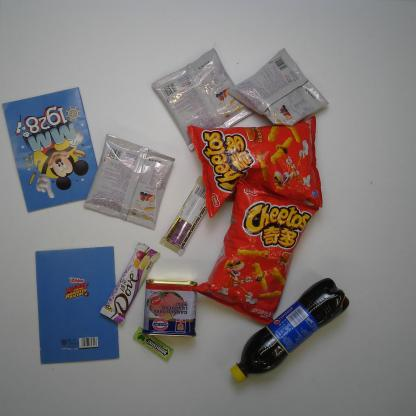Canned Food: (141, 277, 200, 339)
Chocolate: (100, 240, 160, 324), (160, 176, 209, 257)
Drink: (229, 278, 350, 383)
Gum: (133, 326, 173, 360)
Instant Drink: (151, 48, 255, 152), (82, 131, 176, 231), (227, 47, 329, 127)
Puffed Food: (188, 177, 321, 325), (186, 115, 324, 218)
Stationery: (2, 86, 99, 215), (33, 245, 120, 365)
